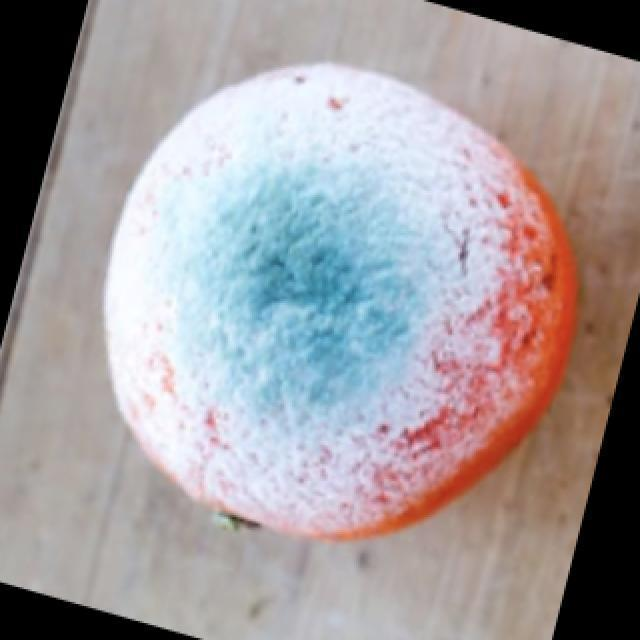Orange: (100, 60, 580, 542)
